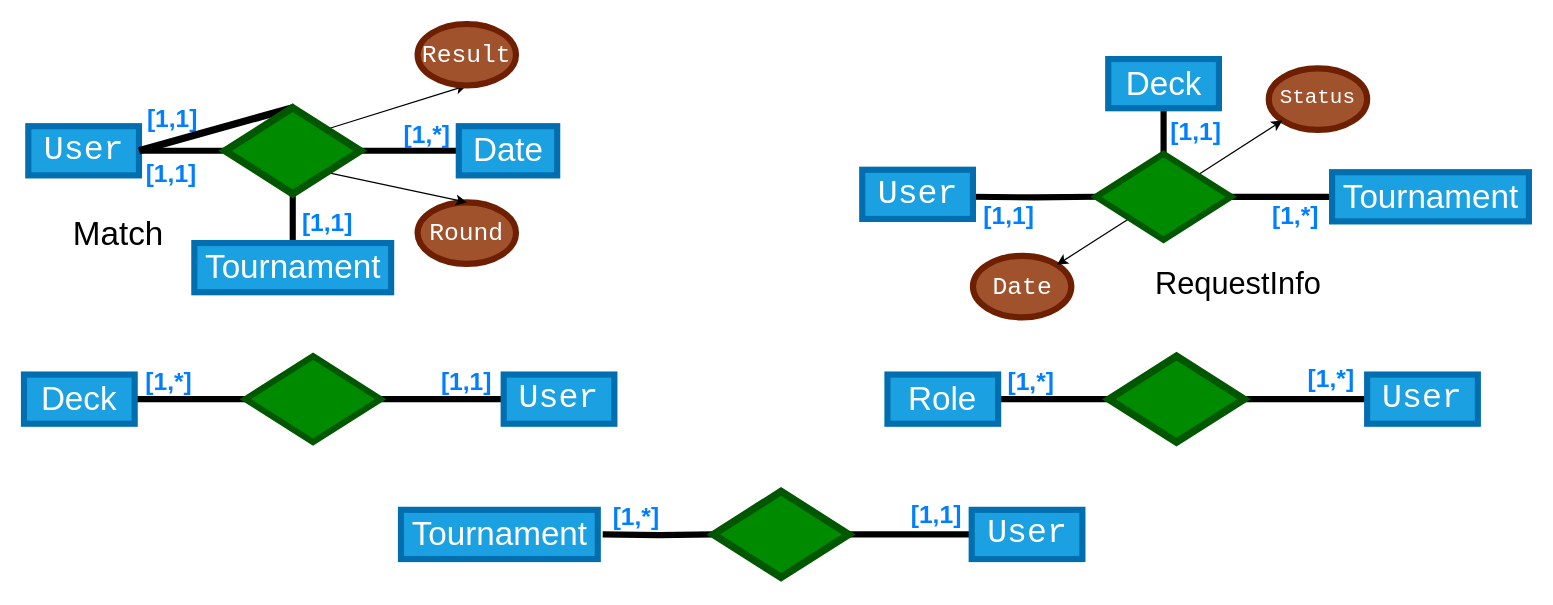
The diagram is 1553 pixels wide and 605 high, and some of its shapes have lost their labels. Each missing label, with the centre of its shape:
"Create" belongs at (780,534).
"Have" belongs at (312,398).
"Is" belongs at (1176,398).
"Play" belongs at (292,150).
"Request" belongs at (1163,196).
